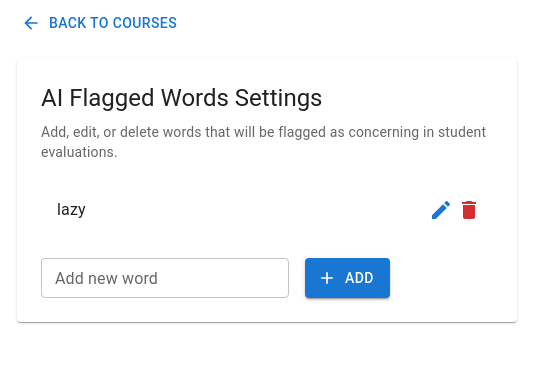
Test: Settings › adds a new flagged word
Expected: the text "lazy" is shown, [57,200,86,219]
In the field labelled "Add new word": (165, 278) [41,258,289,298], type "disrespectful"
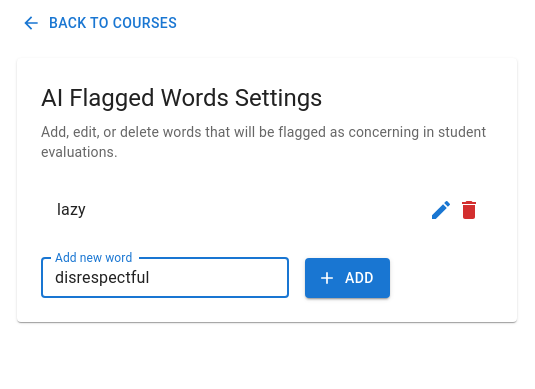
Click the button "Add": (347, 278) [305,258,390,298]
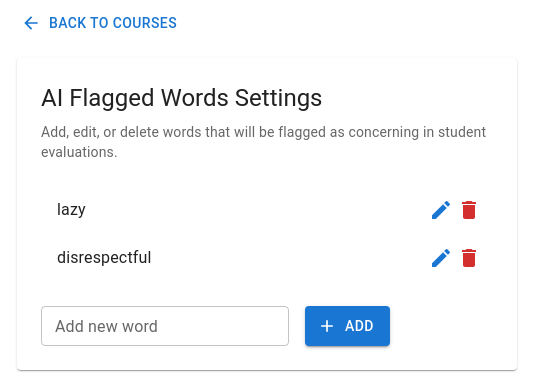
Expected: the text "disrespectful" is shown, [57,248,152,267]
Expected: the field labelled "Add new word" is empty, [41,306,289,346]
